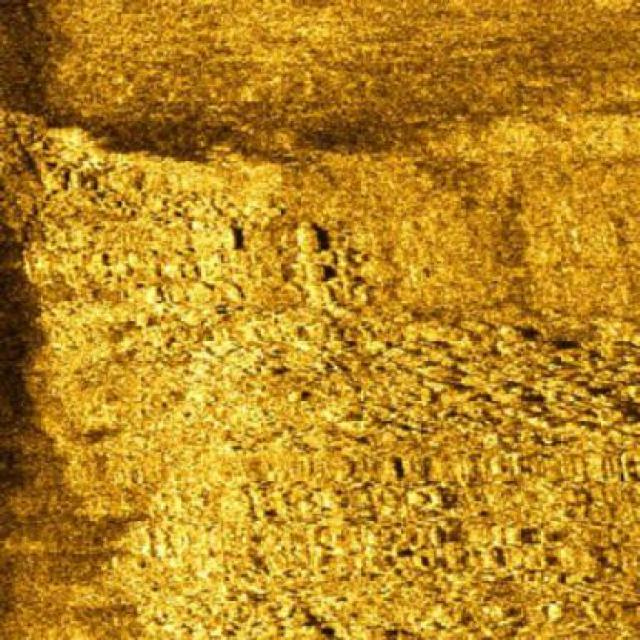bedrock group: (0, 101, 638, 638)
